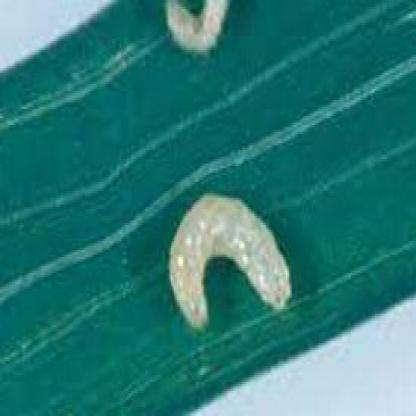whorl-maggot: (164, 184, 298, 337), (158, 2, 237, 61)
